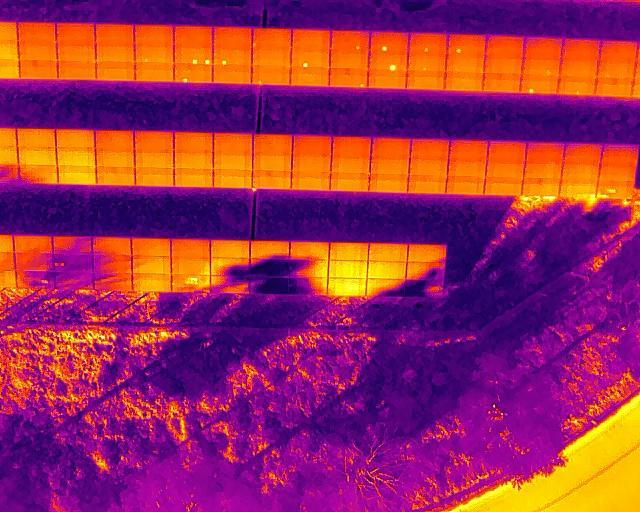Cell: (331, 30, 371, 54), (251, 28, 291, 51), (446, 34, 486, 55), (408, 33, 448, 54), (370, 33, 409, 54), (328, 69, 368, 88), (173, 65, 212, 83), (407, 53, 446, 71), (291, 51, 330, 69), (521, 76, 559, 94), (251, 68, 291, 85), (368, 54, 408, 71), (213, 49, 252, 66), (558, 77, 595, 94)
Cell-Multi: (597, 180, 634, 198), (174, 49, 213, 66)
No-Anomaly: (212, 27, 252, 50), (173, 26, 212, 49), (55, 22, 95, 44), (485, 36, 524, 58), (291, 29, 330, 51), (449, 139, 489, 160), (598, 41, 638, 62), (134, 25, 174, 46), (94, 25, 134, 46), (487, 141, 525, 163), (561, 39, 599, 61), (331, 135, 371, 155), (292, 135, 332, 155), (174, 132, 214, 152), (134, 131, 174, 151), (444, 71, 484, 91), (16, 23, 56, 43), (411, 139, 449, 160), (524, 39, 562, 60), (601, 144, 640, 164), (525, 143, 564, 163), (213, 133, 252, 153), (288, 241, 329, 260), (209, 239, 250, 258), (367, 260, 407, 279), (368, 242, 408, 261), (330, 172, 370, 191), (213, 169, 253, 188), (174, 168, 214, 187), (564, 144, 602, 164), (252, 134, 292, 153), (407, 71, 445, 91), (212, 65, 252, 84), (135, 63, 175, 82), (327, 242, 369, 260), (407, 244, 446, 263), (171, 239, 210, 258), (484, 176, 523, 195), (408, 174, 447, 193), (291, 171, 330, 190), (135, 167, 174, 186), (409, 156, 448, 175), (595, 78, 634, 97), (96, 62, 135, 81), (57, 61, 96, 80), (19, 60, 58, 79), (327, 277, 368, 295), (327, 260, 368, 278), (91, 237, 132, 255), (371, 139, 412, 157), (523, 177, 561, 196), (370, 174, 408, 193), (484, 74, 522, 93), (131, 239, 171, 257), (96, 166, 136, 184), (56, 165, 96, 183), (17, 147, 57, 165), (93, 131, 133, 149), (16, 130, 56, 148), (368, 71, 408, 89), (17, 42, 57, 60), (132, 273, 171, 291), (171, 257, 210, 275), (446, 176, 485, 194), (252, 170, 291, 188), (370, 156, 409, 174), (252, 152, 291, 170), (95, 149, 134, 167), (56, 148, 95, 166), (55, 130, 94, 148), (290, 68, 329, 86), (252, 51, 291, 69), (133, 46, 174, 63), (132, 256, 170, 274), (13, 235, 53, 252), (598, 163, 638, 180), (330, 155, 370, 172), (291, 154, 331, 171), (213, 152, 253, 169), (173, 152, 213, 169), (597, 61, 636, 78), (559, 60, 598, 77), (521, 59, 560, 76), (96, 45, 135, 62), (57, 44, 96, 61), (447, 160, 487, 176), (134, 151, 174, 167), (562, 163, 599, 180), (483, 58, 522, 74), (445, 54, 484, 70), (524, 163, 562, 178), (486, 162, 524, 177), (330, 54, 369, 68)
Shadowing: (53, 252, 93, 273), (92, 255, 133, 274), (18, 165, 59, 184), (14, 252, 54, 271), (403, 281, 444, 299), (288, 260, 329, 278), (248, 276, 288, 294), (14, 271, 54, 289), (406, 262, 446, 280), (210, 258, 250, 276), (365, 278, 404, 296), (210, 275, 249, 293), (250, 241, 289, 259), (250, 259, 288, 277), (288, 277, 328, 294), (54, 272, 94, 289), (52, 237, 92, 254), (92, 274, 132, 290)
Unclassified: (171, 274, 210, 292), (560, 179, 597, 197)
